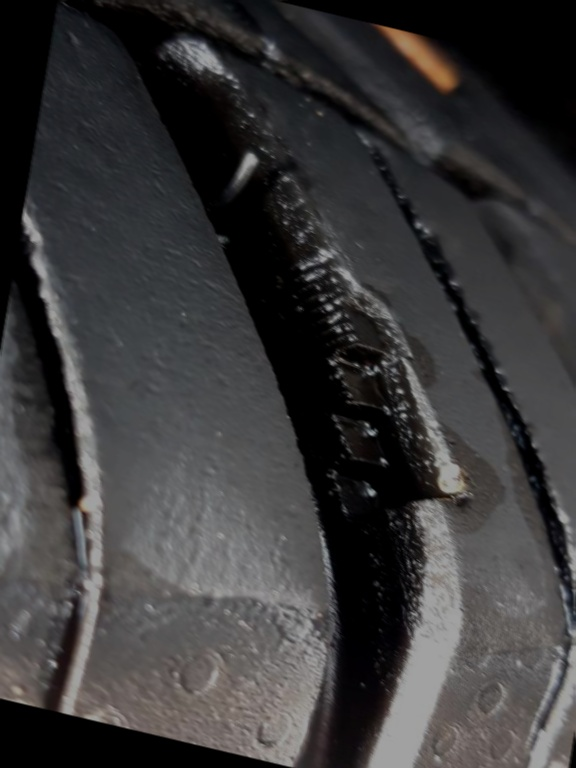temoin:80: (210, 230, 513, 571)
